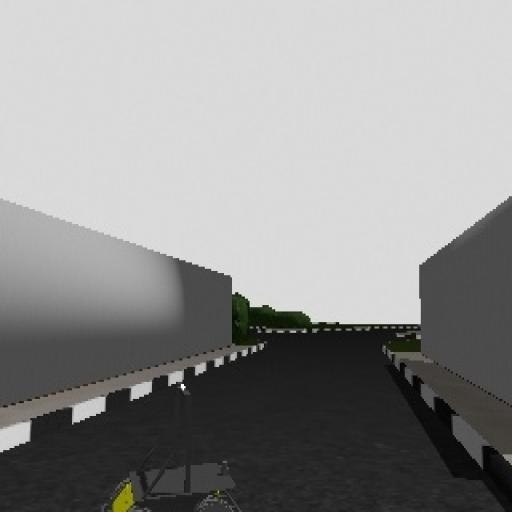huskya200: (97, 378, 253, 512)
